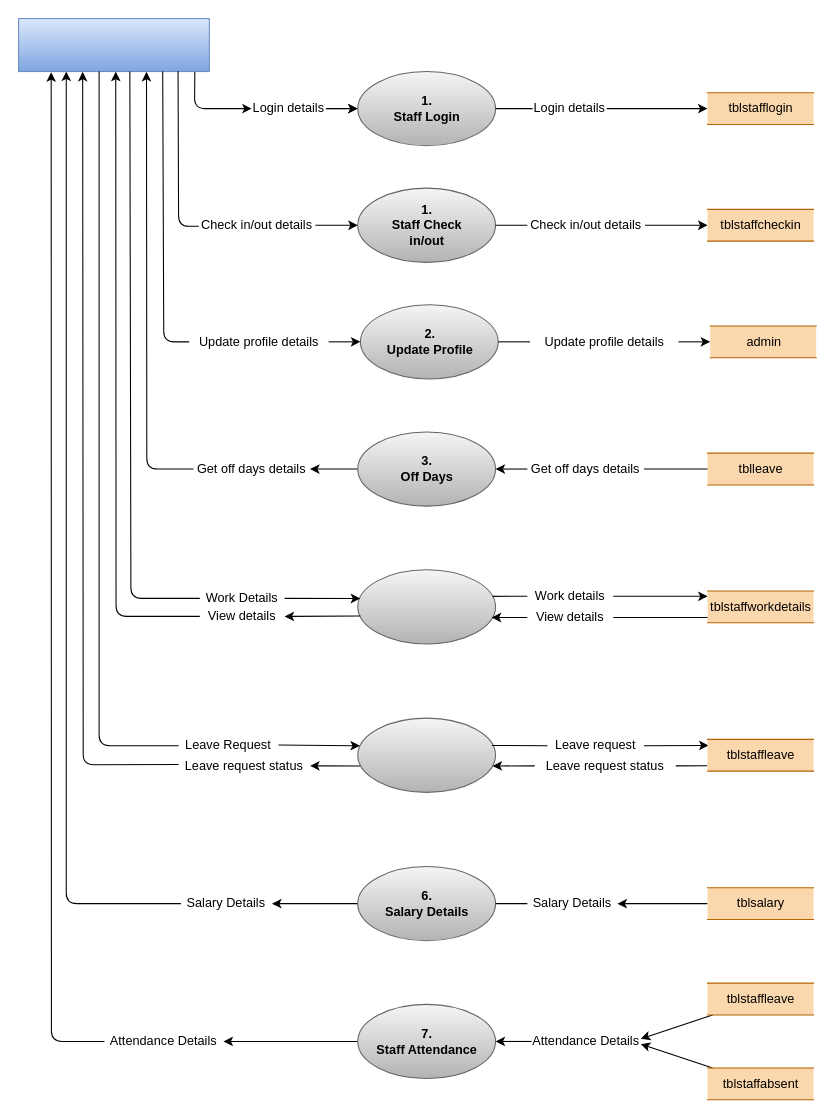
This 835x1118 diagram has some shape labels left out. The shapes that lost their labels are listed below. From the top down, each one's centre as x and y in pixels, then its label:
point (113, 44): Staff/Employee
point (426, 606): 4. Work details
point (426, 754): 5. Leave
